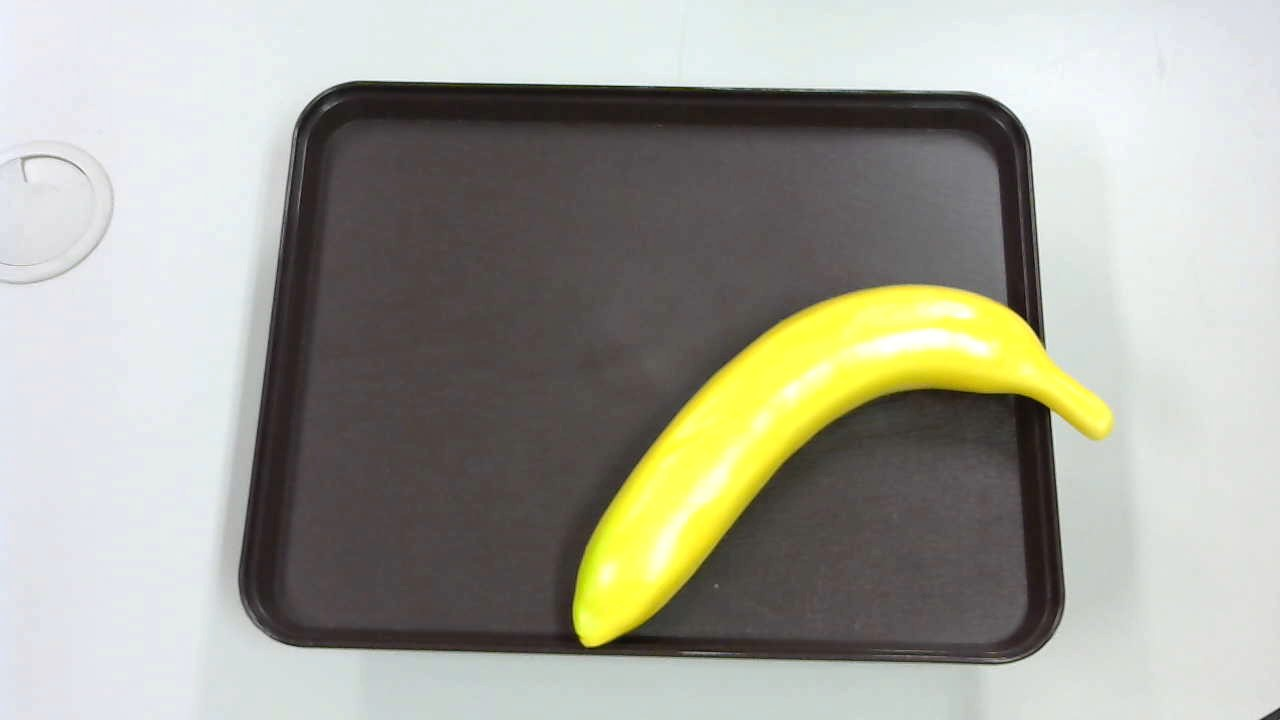banana: (561, 273, 1118, 652)
